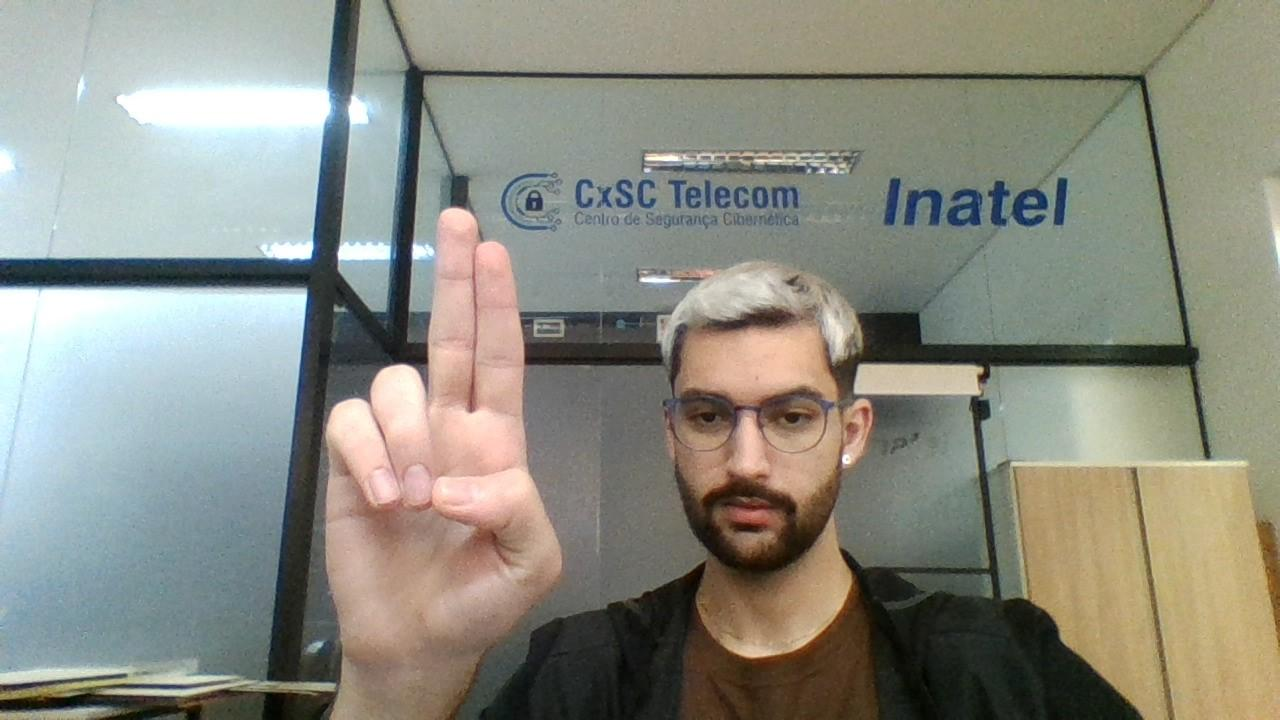U: (310, 206, 574, 654)
